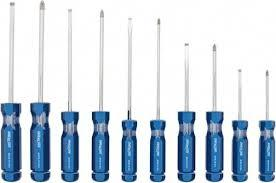screwdriver: (0, 0, 21, 181), (29, 0, 50, 181), (59, 8, 80, 181), (90, 8, 109, 181), (203, 43, 224, 181), (120, 16, 137, 181), (148, 16, 165, 181), (176, 41, 195, 181), (256, 68, 275, 181), (230, 67, 248, 181)
